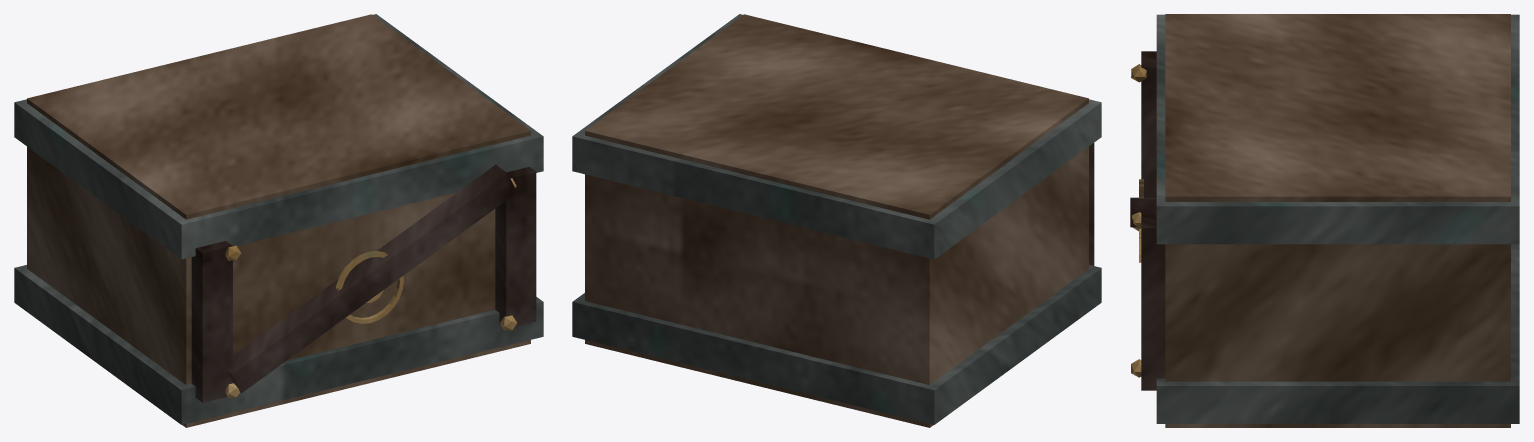
Rendered from 0746_supply_crate_21.glb.
3 renders of one model, left to right at view 1: azimuth 30°, elevation 25°; view 2: azimuth 150°, elevation 25°; view 3: azimuth 270°, elevation 25°, orthographic. The views are drawn at different scales.
Parts seen in each view (by area): view 1: wood, iron, wood_dark, brass; view 2: wood, iron, wood_dark; view 3: wood, iron, wood_dark, brass.
Boxes of the visible parts, x1=… form: wood: x1=27, y1=14, x2=530, y2=427; iron: x1=14, y1=14, x2=543, y2=424; wood_dark: x1=191, y1=164, x2=536, y2=402; brass: x1=225, y1=178, x2=516, y2=397; wood: x1=585, y1=14, x2=1088, y2=427; iron: x1=572, y1=14, x2=1101, y2=424; wood_dark: x1=1089, y1=143, x2=1094, y2=265; wood: x1=1165, y1=14, x2=1510, y2=427; iron: x1=1156, y1=14, x2=1519, y2=423; wood_dark: x1=1130, y1=51, x2=1165, y2=390; brass: x1=1131, y1=64, x2=1146, y2=377.
Size of the model in its own units: 1.2 by 0.6727 by 1.03.
Materials: 4 (4 with a texture image).
